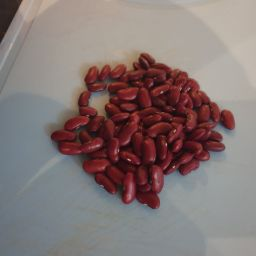Pinto Beans (kidney beans): (38, 43, 244, 215), (83, 133, 144, 203), (134, 110, 178, 188), (196, 89, 246, 151), (79, 65, 128, 126), (124, 162, 194, 199), (47, 117, 96, 163), (125, 51, 170, 101), (177, 65, 207, 125)
